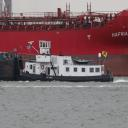tugboat: (15, 37, 116, 85)
